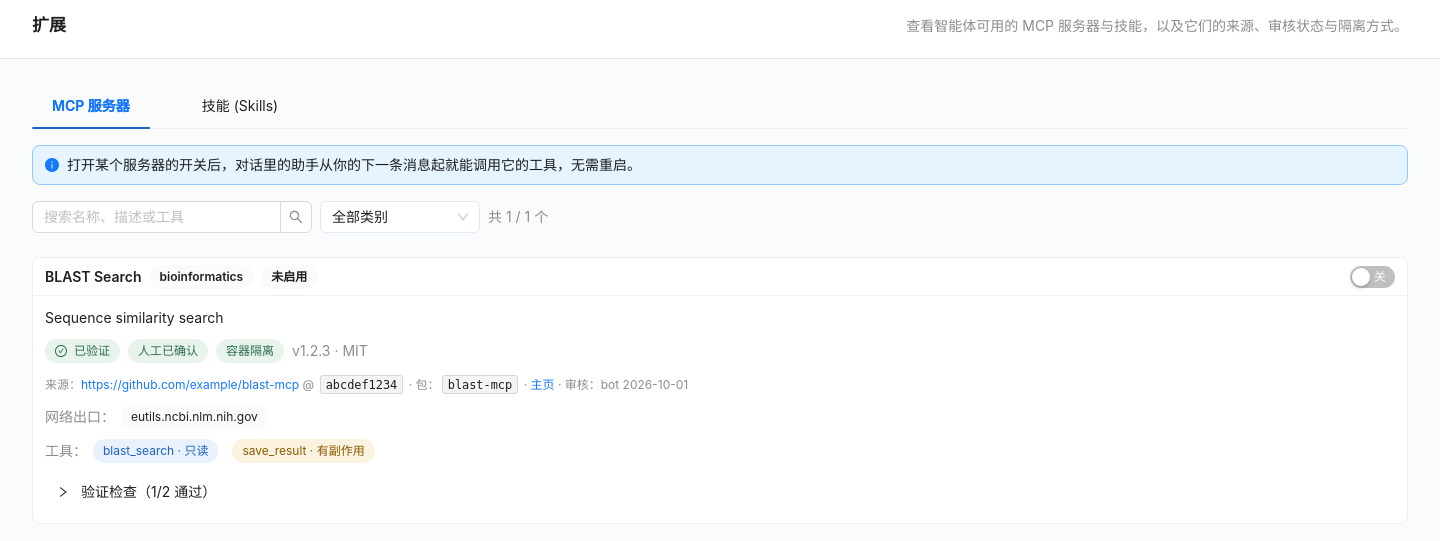
it: Extensions page - MCP tab › surfaces the backend detail when enabling fails and leaves the switch unchanged
Click the switch at (1372, 277), box [1350,266,1395,288]
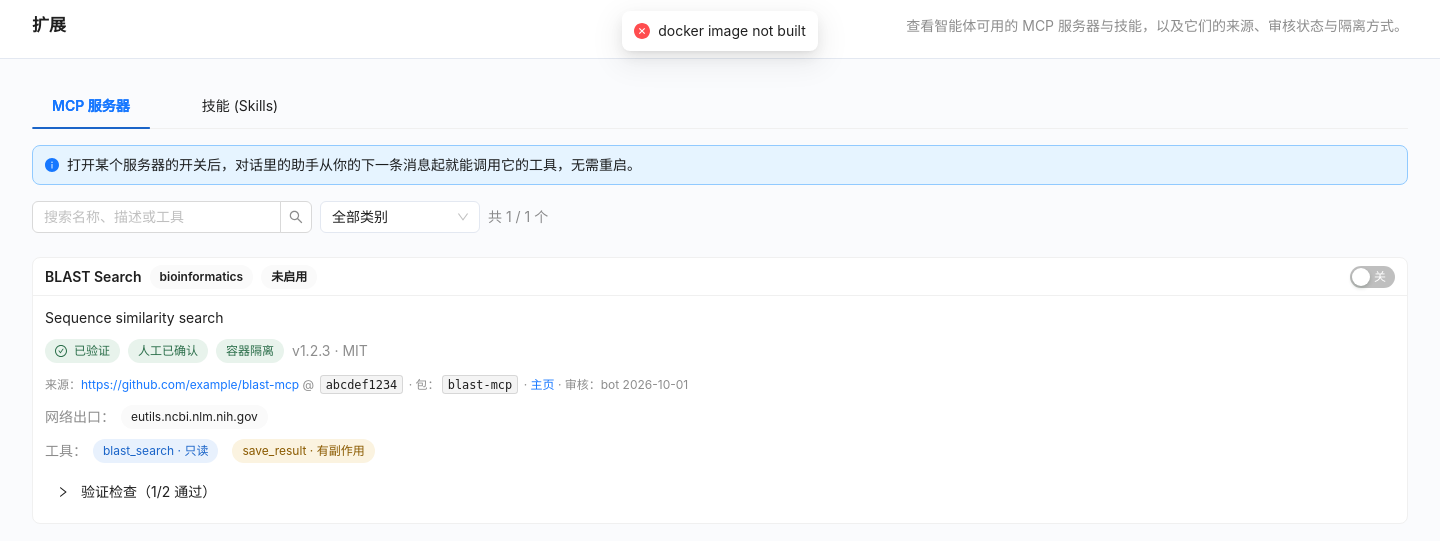
Now the text "docker image not built" is shown, box [658,20,806,42]
